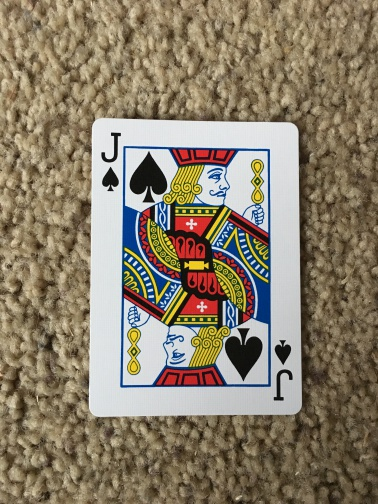jack: (89, 117, 303, 415)
